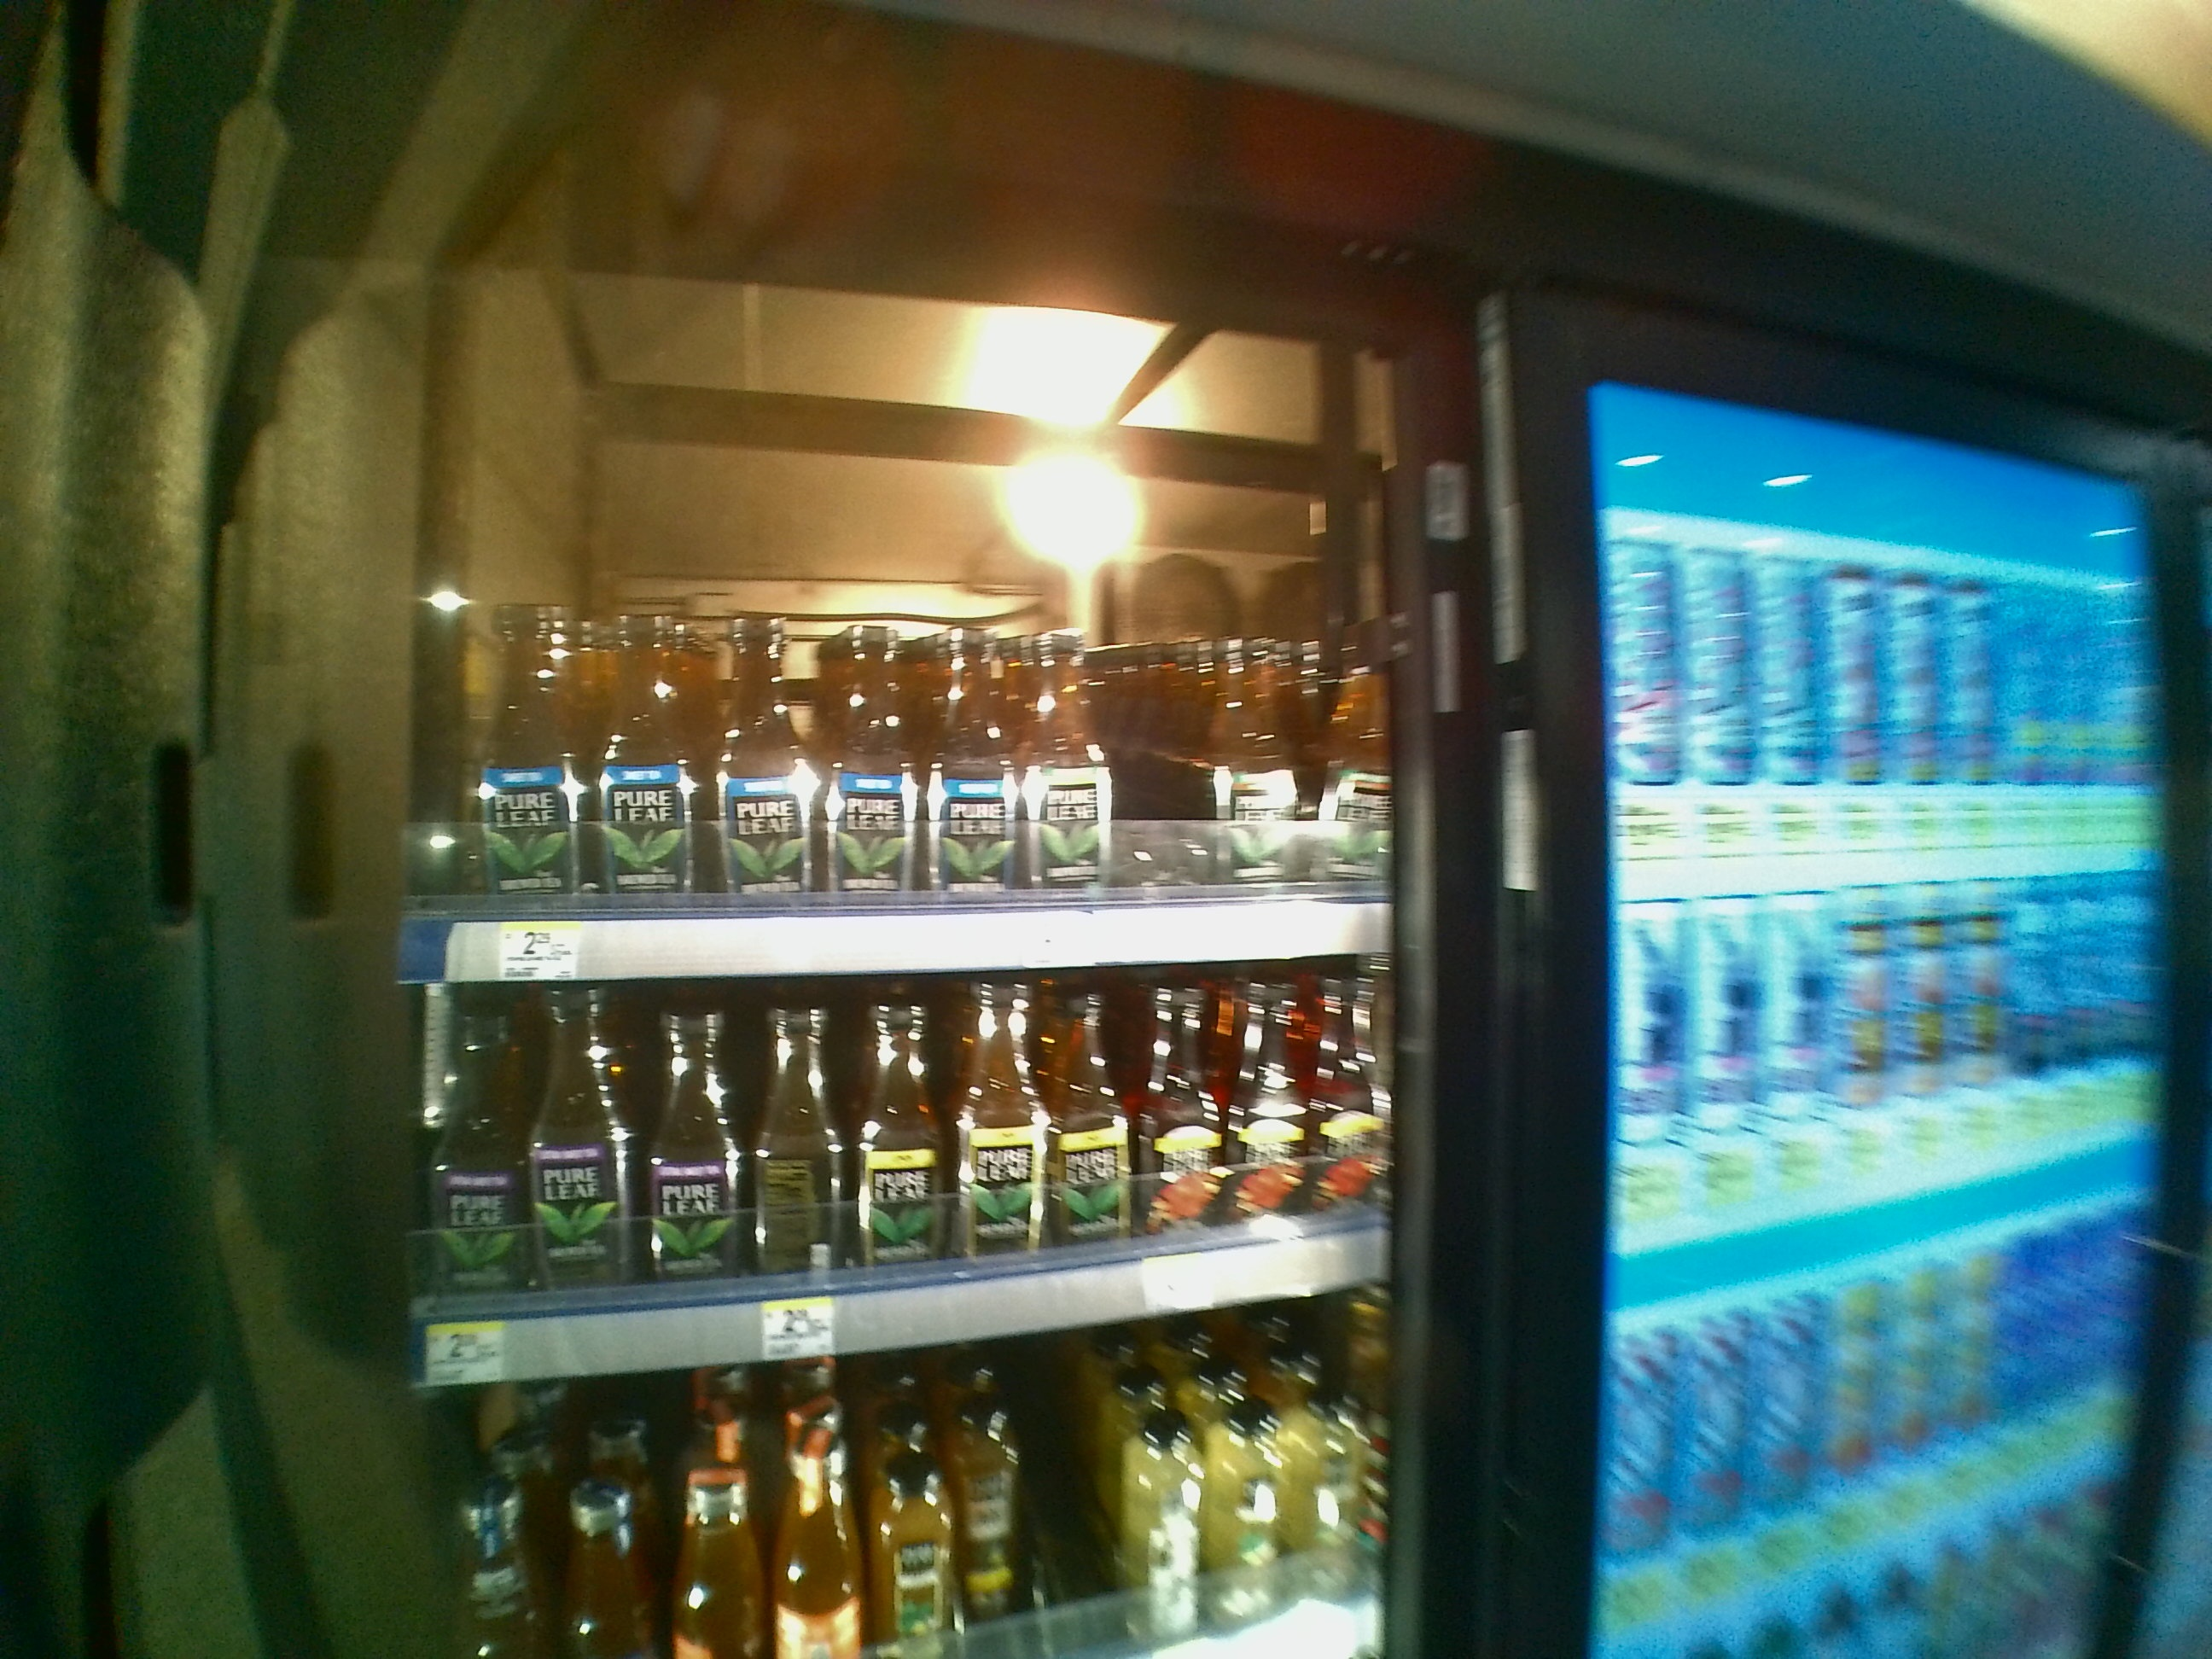shelf: (394, 345, 1393, 983), (387, 995, 1395, 1389)
